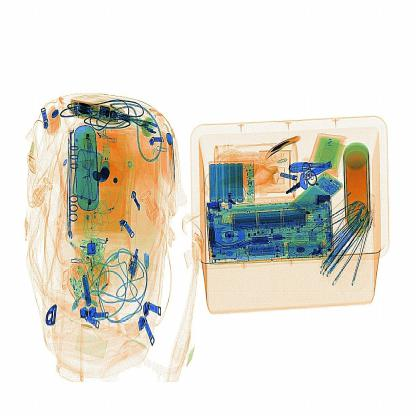wrench: (262, 129, 306, 162)
